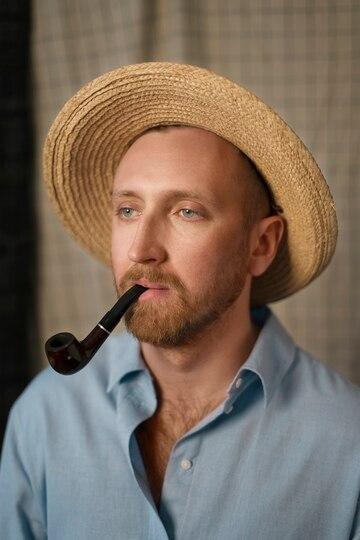trubka: (46, 284, 149, 375)
